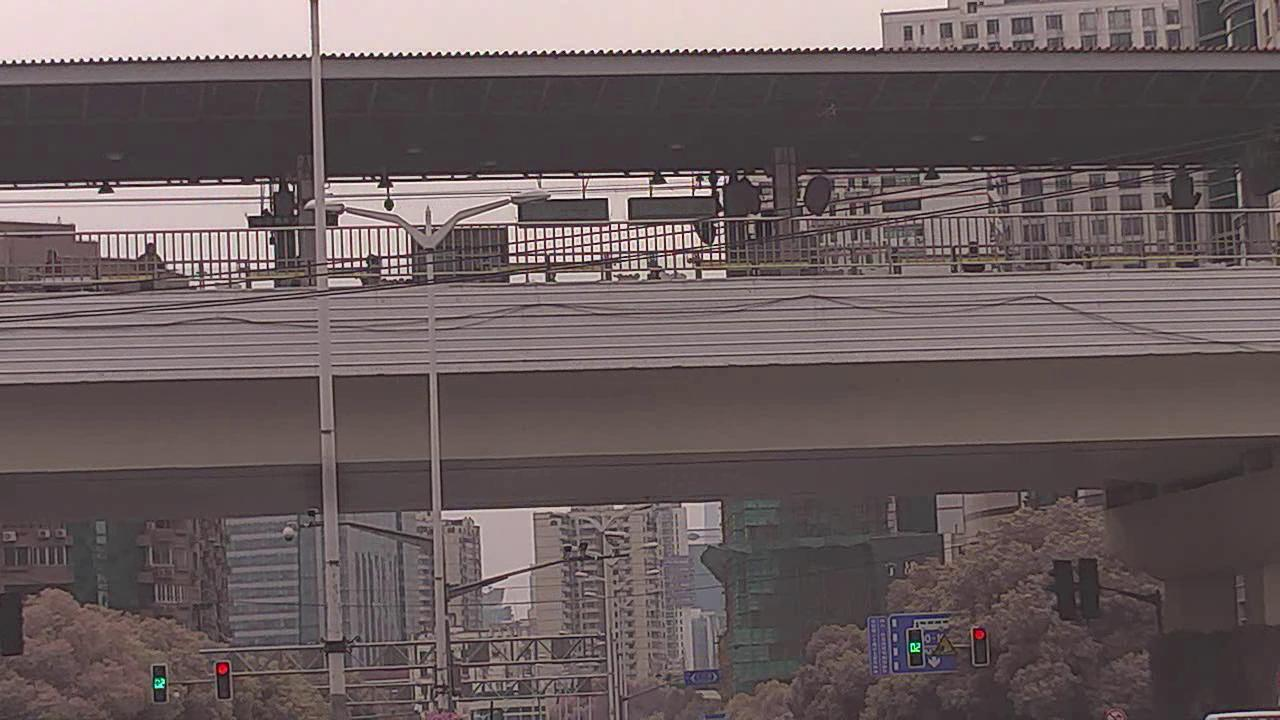traffic_light: (150, 664, 170, 706), (970, 628, 988, 666), (217, 658, 232, 701), (909, 630, 925, 668)
